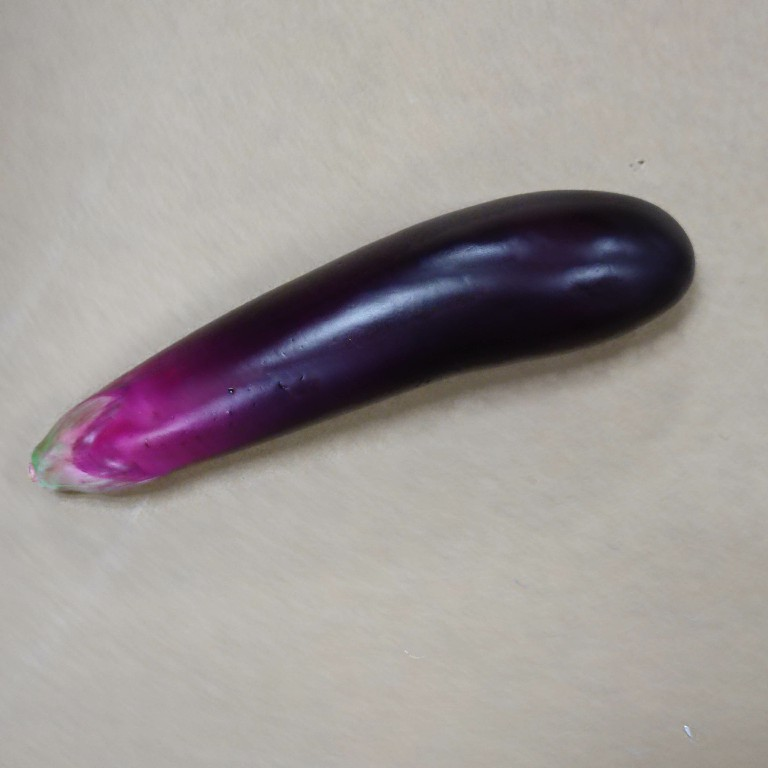fruit_eggplant: (21, 186, 698, 505)
